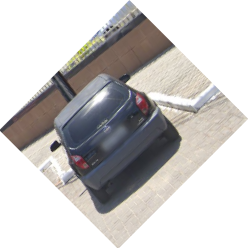car: (46, 70, 186, 209)
